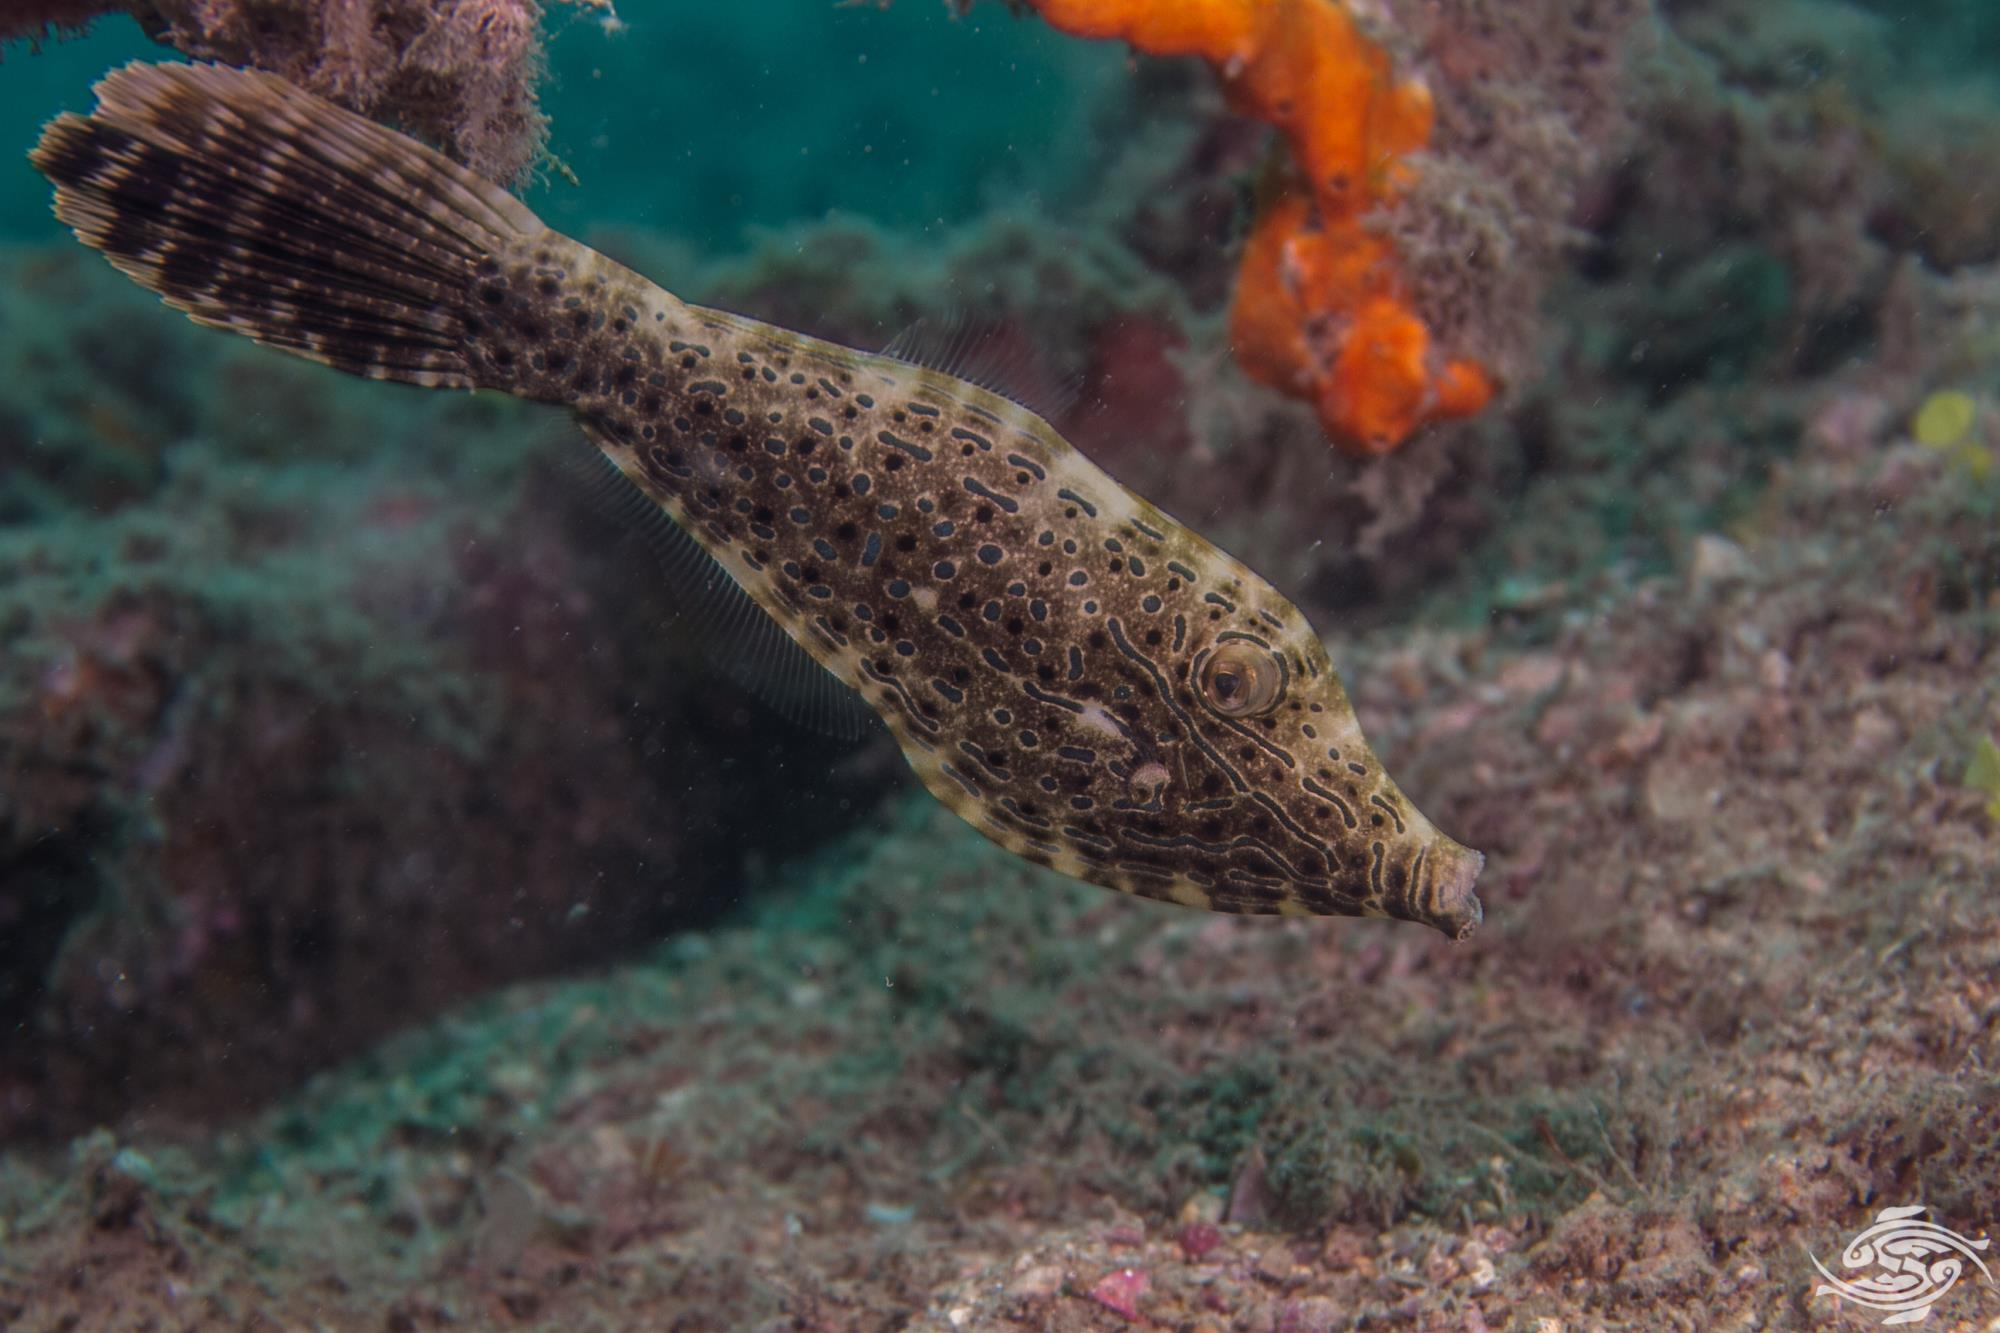Aluterus_scriptus: (6, 43, 1494, 954)
